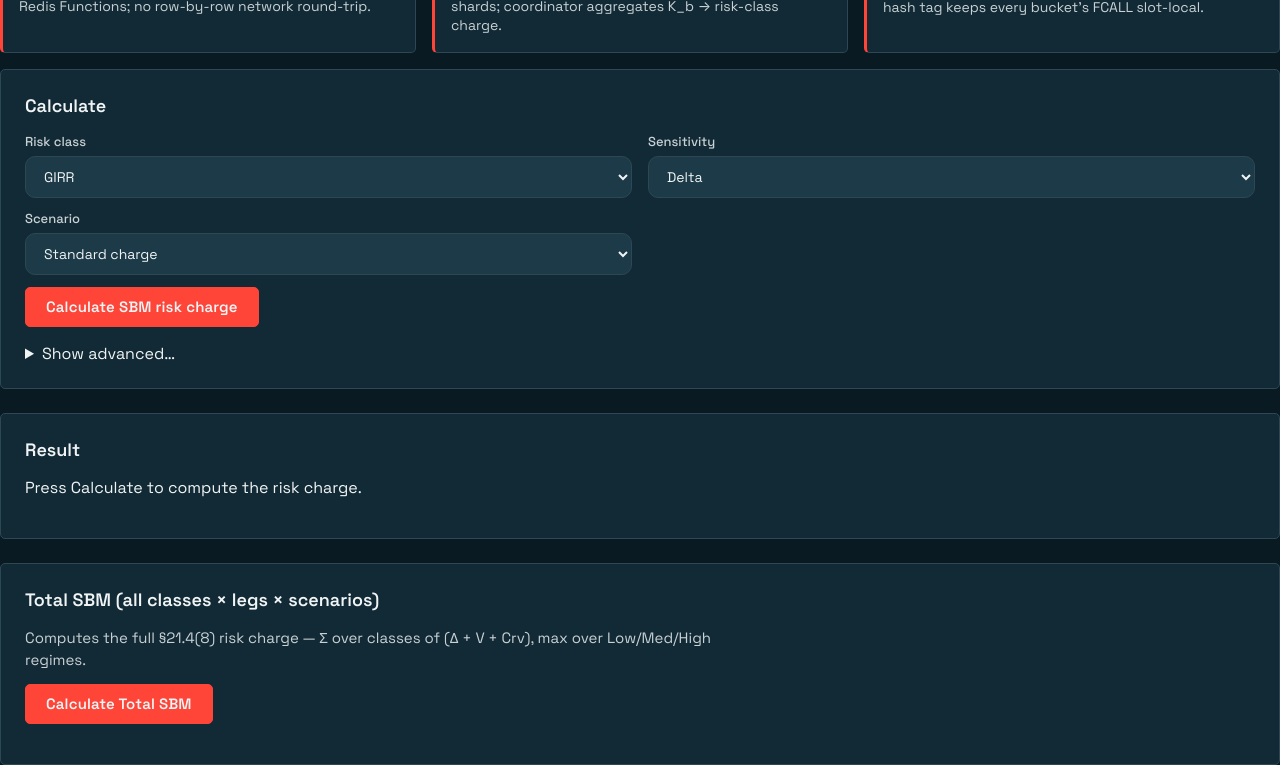
<CalcPanel /> — Total SBM card (Wave 5.96B) › renders the served-from-cache chip with both fresh and original timing when performance.cache='hit'
(page scrolled)
Click the button with test id "calc-total-cta": (119, 704) left=25, top=684, right=213, bottom=724
(page scrolled)
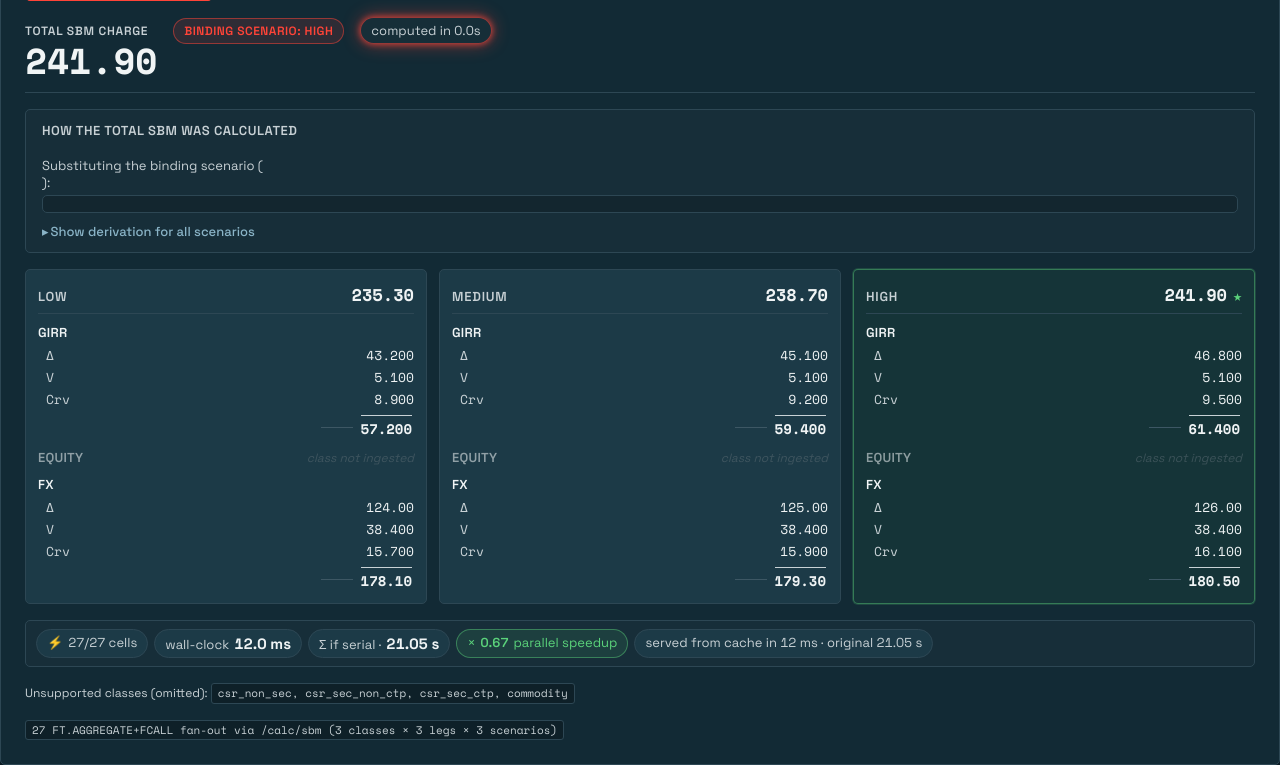
Check: the element with test id "calc-total-result" is shown
Check: the text with test id "calc-total-perf-cache-chip" shows "served from cache", box left=645, top=634, right=922, bottom=651
Check: the text with test id "calc-total-perf-cache-chip" shows "12 ms", box left=645, top=634, right=922, bottom=651
